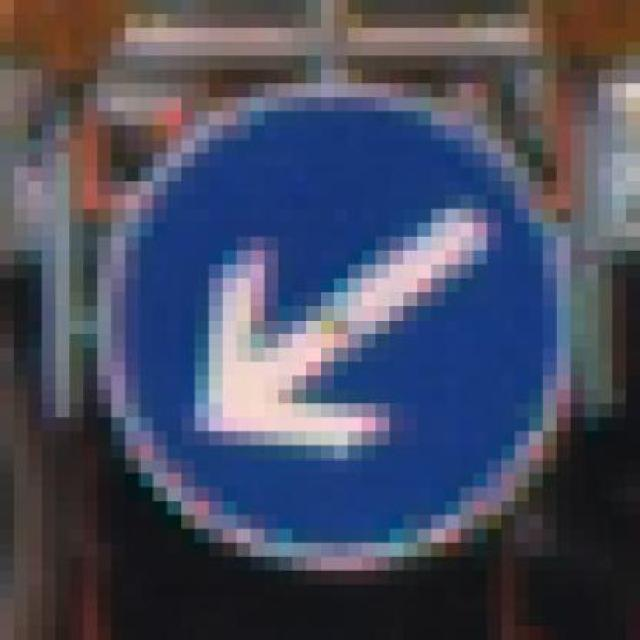Keep-Left: (83, 56, 626, 584)
